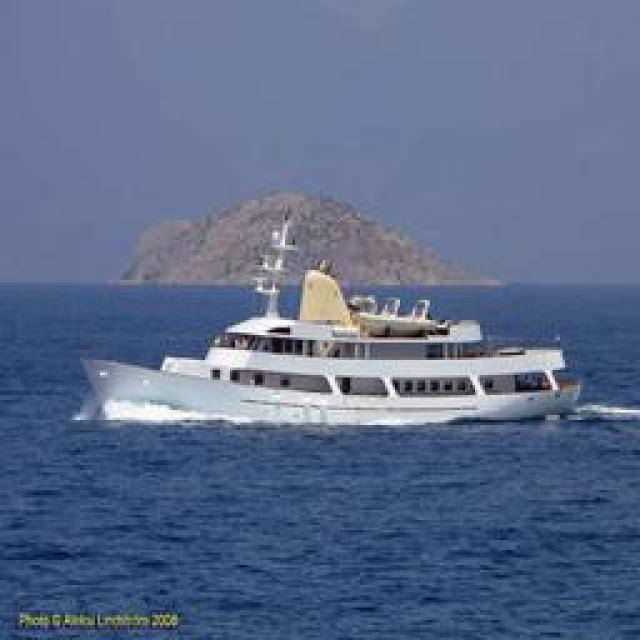CIV_Ship: (84, 265, 586, 433)
